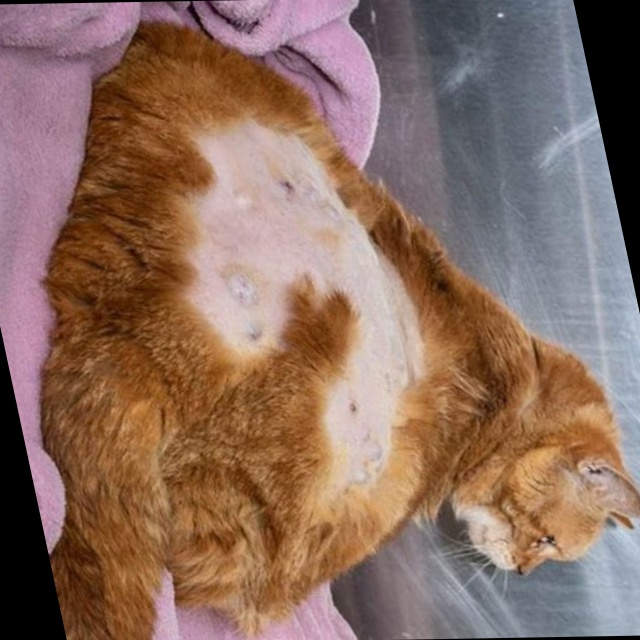hairloss: (195, 143, 456, 472)
